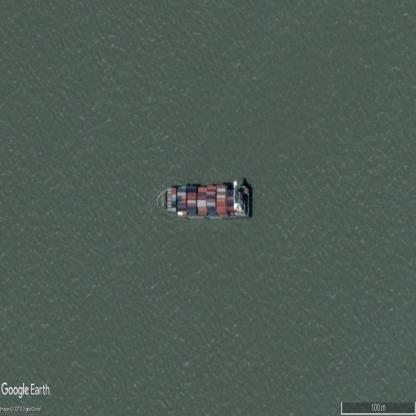ship: (156, 180, 252, 222)
